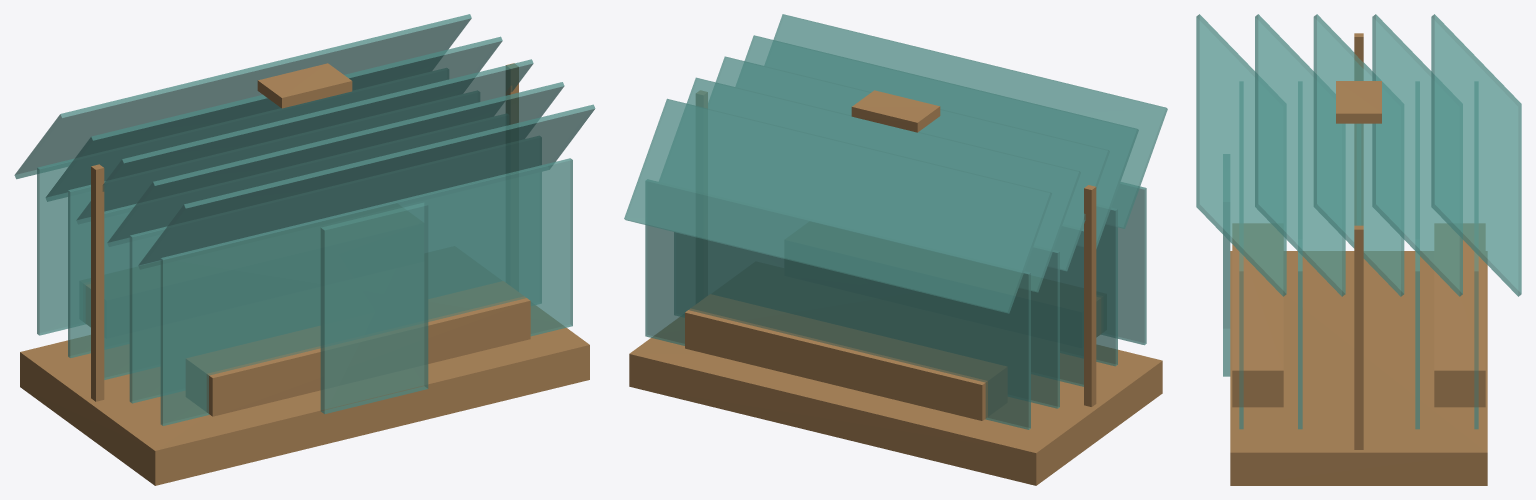
The model's file is Greenhouse.glb.
The picture shows the model from 3 angles, left to right: view 1: azimuth 30°, elevation 25°; view 2: azimuth 150°, elevation 25°; view 3: azimuth 270°, elevation 25°; orthographic projection. The views are drawn at different scales.
Parts seen in each view (by area): view 1: wind-pump-static-greenhouse-panel-mat, wind-pump-static-greenhouse-curb-mat, wind-pump-static-greenhouse-bench-mat, wind-pump-static-greenhouse-frame-mat; view 2: wind-pump-static-greenhouse-panel-mat, wind-pump-static-greenhouse-curb-mat, wind-pump-static-greenhouse-bench-mat, wind-pump-static-greenhouse-frame-mat; view 3: wind-pump-static-greenhouse-panel-mat, wind-pump-static-greenhouse-curb-mat, wind-pump-static-greenhouse-bench-mat, wind-pump-static-greenhouse-frame-mat.
Boxes of the visible parts, <box> form: wind-pump-static-greenhouse-panel-mat: <box>14,14,595,425</box>; wind-pump-static-greenhouse-curb-mat: <box>20,305,589,485</box>; wind-pump-static-greenhouse-bench-mat: <box>85,281,530,416</box>; wind-pump-static-greenhouse-frame-mat: <box>91,63,518,401</box>; wind-pump-static-greenhouse-panel-mat: <box>624,14,1167,429</box>; wind-pump-static-greenhouse-curb-mat: <box>629,317,1162,485</box>; wind-pump-static-greenhouse-bench-mat: <box>685,294,1101,420</box>; wind-pump-static-greenhouse-frame-mat: <box>696,90,1096,406</box>; wind-pump-static-greenhouse-panel-mat: <box>1196,14,1521,429</box>; wind-pump-static-greenhouse-curb-mat: <box>1230,251,1487,485</box>; wind-pump-static-greenhouse-bench-mat: <box>1232,223,1485,407</box>; wind-pump-static-greenhouse-frame-mat: <box>1336,33,1381,449</box>.
Size of the model in its own units: 2.6 by 1.73 by 1.77.
